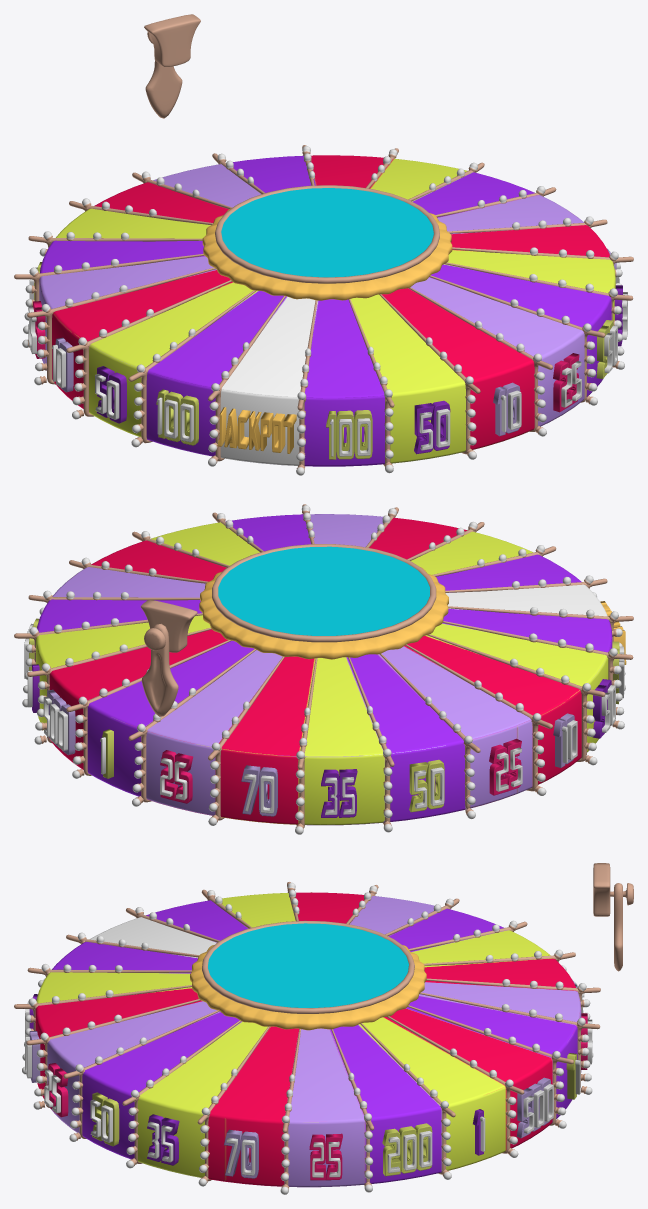
File: fortune-wheel-v3.74-final.fbx
3 views of the same model, one above another, from view 1: azimuth 30°, elevation 25°; view 2: azimuth 150°, elevation 25°; view 3: azimuth 270°, elevation 25° (orthographic). The views are drawn at different scales.
Parts seen in each view (by area): view 1: Cylinder, Circle.001, Cylinder.001, Text.001, Text.000, Text.002, Cube, Cube.002; view 2: Cylinder, Circle.001, Cylinder.001, Text.001, Text.000, Cube, Cube.002; view 3: Cylinder, Circle.001, Cylinder.001, Text.001, Text.000, Cube, Cube.002.
Part boxes in pixels (bbox=[...]): Cylinder: bbox=[39, 155, 615, 466]; Circle.001: bbox=[202, 185, 452, 300]; Cylinder.001: bbox=[14, 145, 633, 475]; Text.001: bbox=[33, 248, 622, 459]; Text.000: bbox=[28, 262, 627, 456]; Text.002: bbox=[217, 407, 296, 453]; Cube: bbox=[144, 14, 200, 66]; Cube.002: bbox=[145, 60, 182, 118]; Cylinder: bbox=[36, 514, 612, 825]; Circle.001: bbox=[199, 544, 448, 659]; Cylinder.001: bbox=[14, 504, 633, 834]; Text.001: bbox=[29, 618, 619, 817]; Text.000: bbox=[24, 623, 624, 815]; Cube: bbox=[140, 600, 197, 652]; Cube.002: bbox=[141, 623, 178, 717]; Cylinder: bbox=[35, 892, 581, 1187]; Circle.001: bbox=[190, 920, 426, 1030]; Cylinder.001: bbox=[14, 882, 600, 1194]; Text.001: bbox=[29, 980, 587, 1180]; Text.000: bbox=[25, 978, 592, 1177]; Cube: bbox=[593, 863, 633, 916]; Cube.002: bbox=[614, 883, 622, 971].
Size of the model in its own units: 212 by 91.75 by 224.
Materials: 9 (1 with a texture image).
